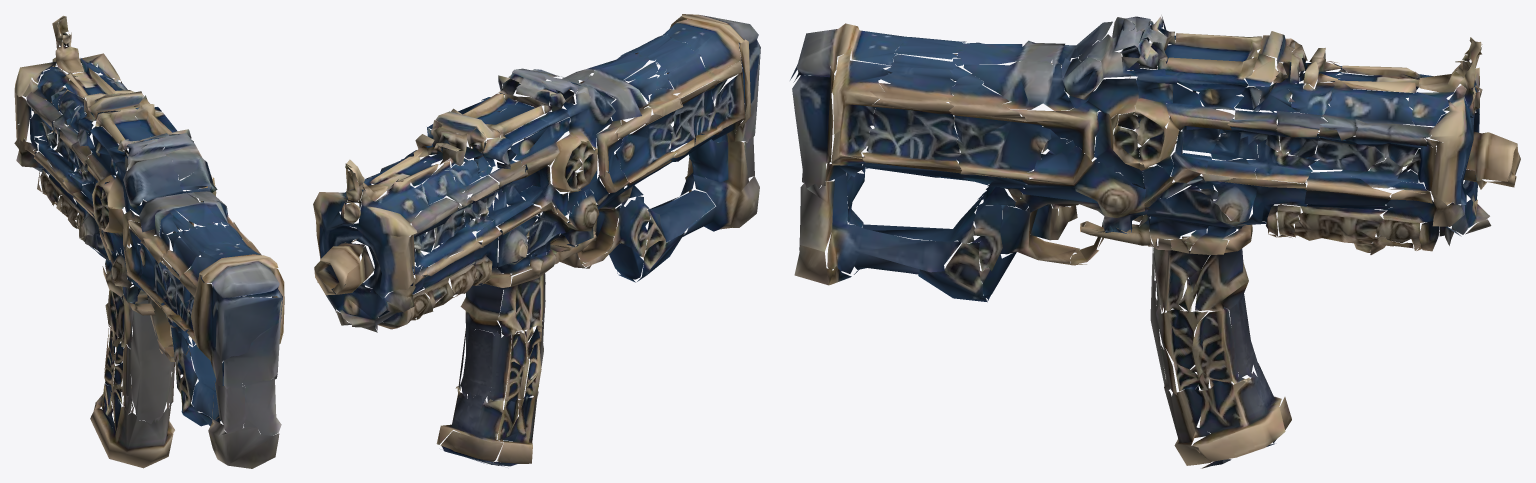
Rendered from bolter.glb.
3 renders of one model, left to right at view 1: azimuth 30°, elevation 25°; view 2: azimuth 150°, elevation 25°; view 3: azimuth 270°, elevation 25°, orthographic. The views are drawn at different scales.
Visible parts, largest first — view 1: tripo_node_b4194f8c-4b91-42a2-8ff4-d630e47e87c0; view 2: tripo_node_b4194f8c-4b91-42a2-8ff4-d630e47e87c0; view 3: tripo_node_b4194f8c-4b91-42a2-8ff4-d630e47e87c0.
Boxes of the visible parts, box(x1,y1,x2,y2) form: tripo_node_b4194f8c-4b91-42a2-8ff4-d630e47e87c0: box(14, 15, 284, 468); tripo_node_b4194f8c-4b91-42a2-8ff4-d630e47e87c0: box(313, 14, 760, 466); tripo_node_b4194f8c-4b91-42a2-8ff4-d630e47e87c0: box(790, 15, 1520, 468).
Size of the model in its own units: 0.3284 by 0.6631 by 1.01.
1 material, 1 textured.
